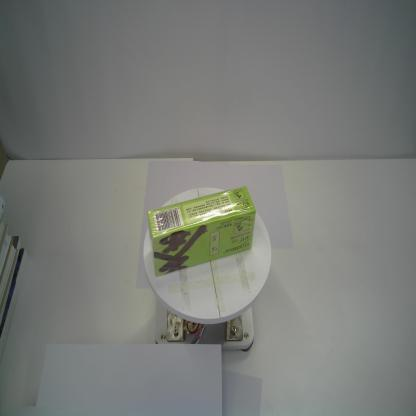Instant Drink: (147, 184, 256, 276)
